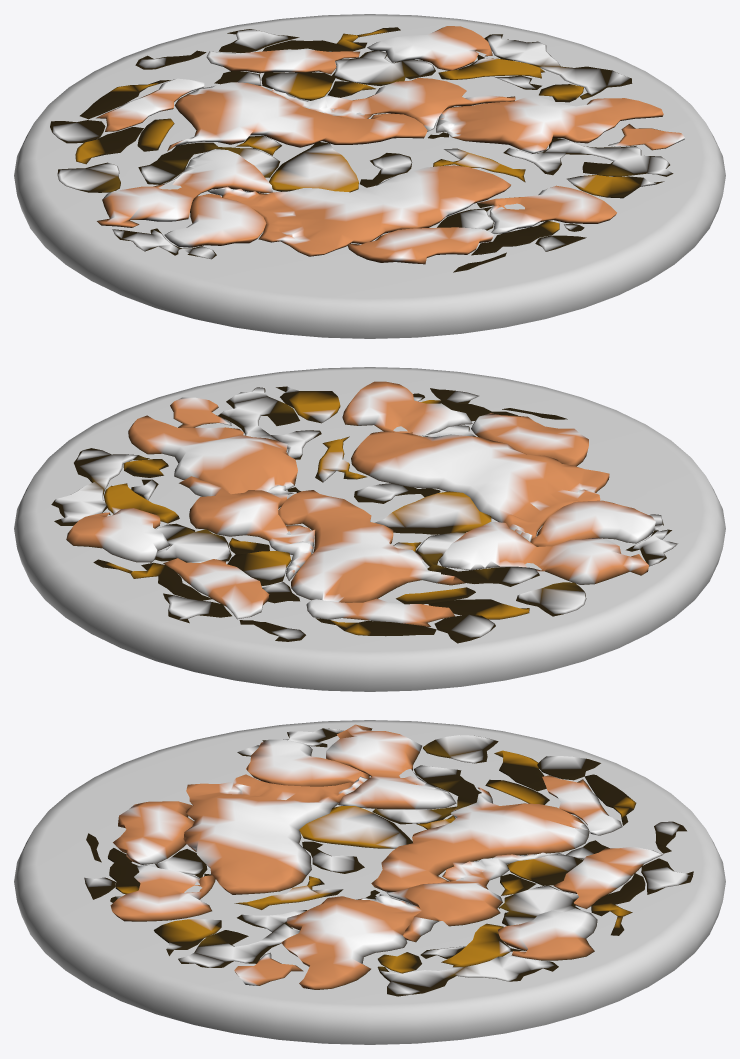
Rendered from SM_D20_wok.fbx.
The picture shows the model from 3 angles, top to bottom: view 1: azimuth 30°, elevation 25°; view 2: azimuth 150°, elevation 25°; view 3: azimuth 270°, elevation 25°; orthographic projection.
Visible parts, largest first — view 1: SM_D20_wok; view 2: SM_D20_wok; view 3: SM_D20_wok.
Boxes of the visible parts, left/top/right/bottom form: SM_D20_wok: left=14, top=14, right=725, bottom=338; SM_D20_wok: left=14, top=367, right=725, bottom=691; SM_D20_wok: left=14, top=720, right=725, bottom=1044.
Bounding box in the file's own units: 0.158 × 0.0128 × 0.158.
